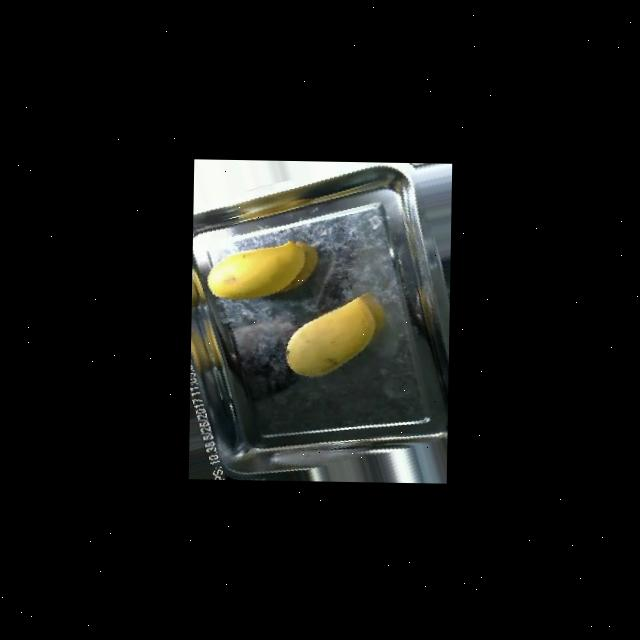Mango: (284, 290, 384, 378), (205, 237, 318, 299)
